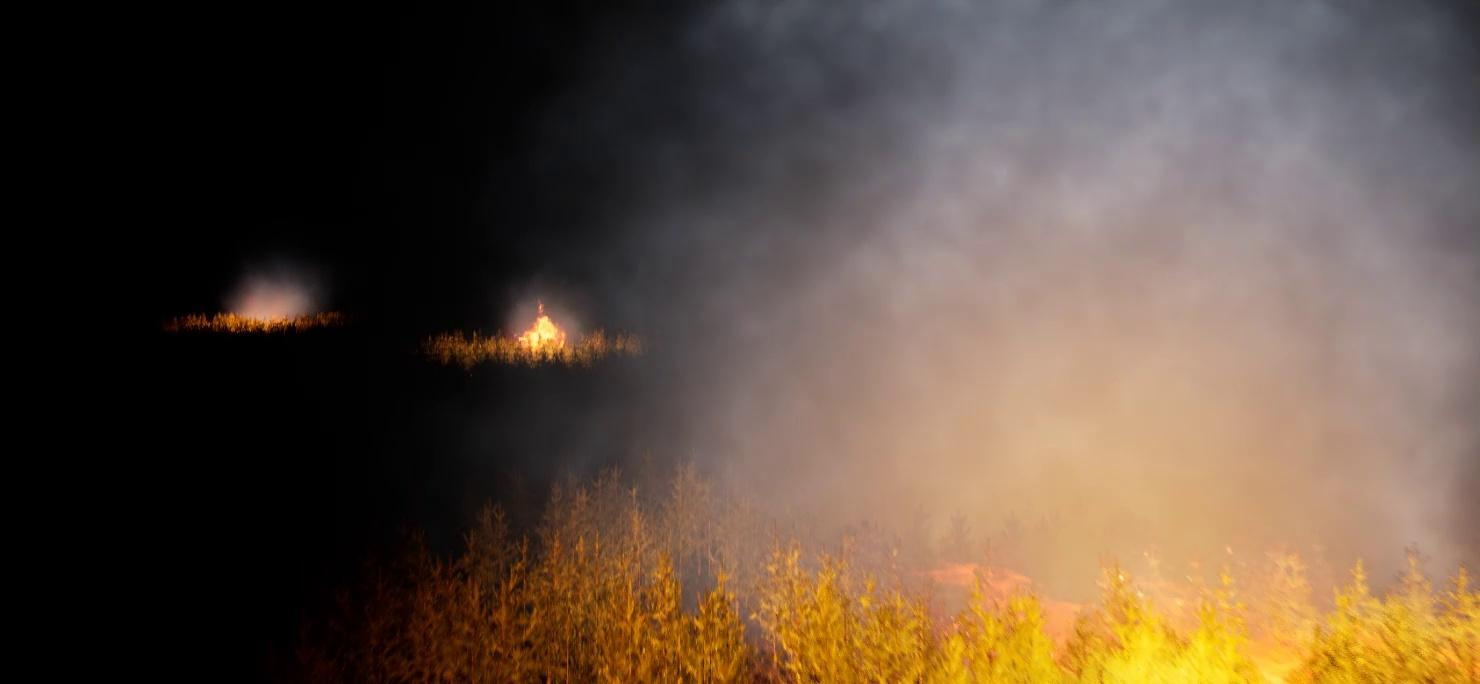fire: (408, 478, 1479, 682), (513, 301, 576, 352)
smoke: (537, 0, 1479, 591), (500, 278, 594, 343), (228, 267, 318, 323)
